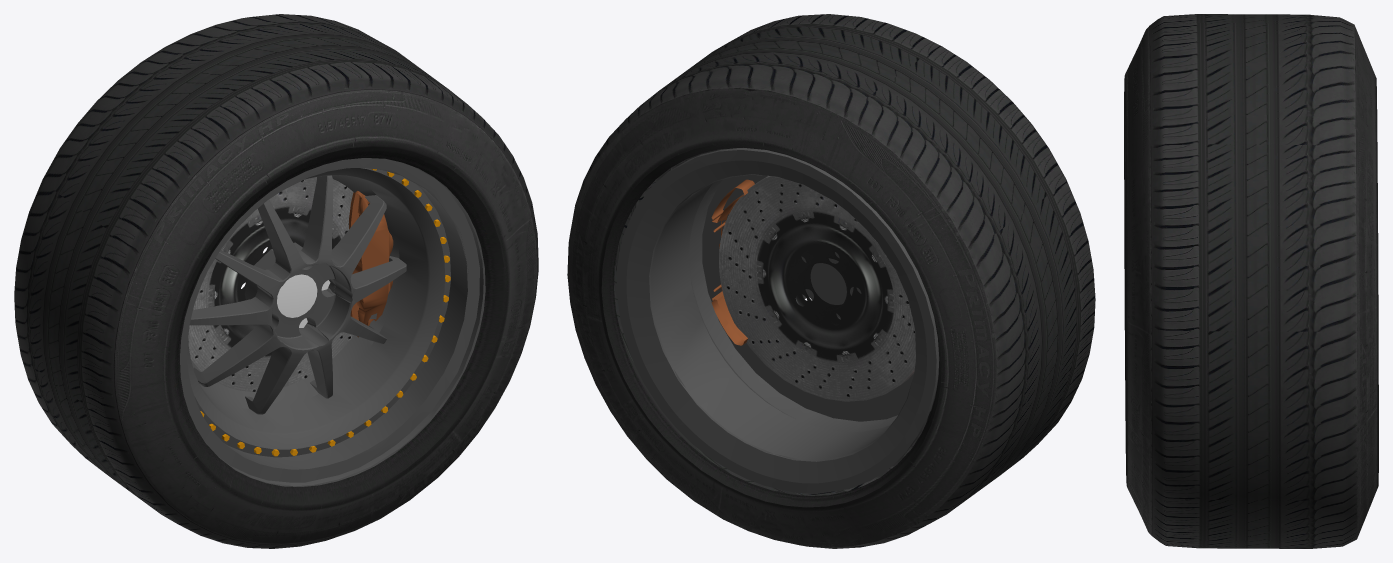
Rendered from Tyre_Type_5.fbx.
3 views of the same model, side by side, from view 1: azimuth 30°, elevation 25°; view 2: azimuth 150°, elevation 25°; view 3: azimuth 270°, elevation 25° (orthographic). The views are drawn at different scales.
Parts seen in each view (by area): view 1: Rubber, Rim5, Rim, Disc, Caliper, Outer Screws; view 2: Rubber, Rim, Disc, Rim5, Caliper; view 3: Rubber.
Boxes of the visible parts, left/top/right/bottom form: Rubber: left=14, top=14, right=538, bottom=548; Rim5: left=187, top=168, right=450, bottom=457; Rim: left=180, top=158, right=485, bottom=486; Disc: left=188, top=177, right=353, bottom=391; Caliper: left=349, top=191, right=393, bottom=337; Outer Screws: left=200, top=169, right=450, bottom=456; Rubber: left=567, top=14, right=1095, bottom=548; Rim: left=617, top=148, right=939, bottom=493; Disc: left=719, top=176, right=915, bottom=401; Rim5: left=689, top=175, right=936, bottom=431; Caliper: left=711, top=179, right=754, bottom=345; Rubber: left=1124, top=14, right=1378, bottom=548.
Bounding box in the file's own units: 55.47 × 55.36 × 26.42.
